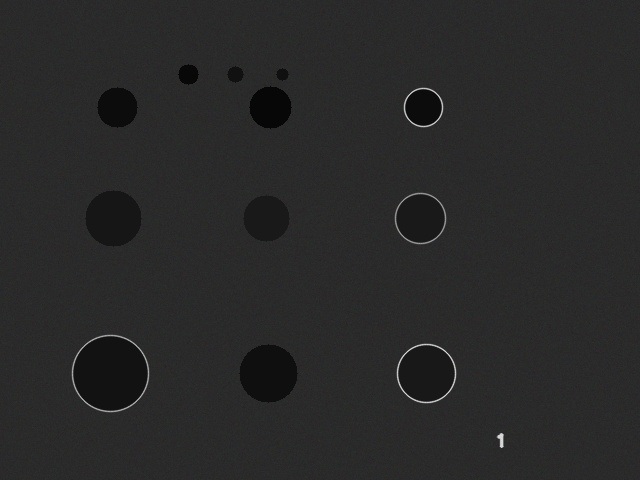hole: (72, 335, 148, 411), (239, 344, 297, 402), (397, 344, 455, 402), (85, 190, 141, 246), (395, 193, 445, 243), (243, 195, 289, 241), (249, 86, 291, 128), (97, 87, 137, 127), (404, 88, 442, 126), (178, 64, 198, 84), (227, 66, 243, 82), (276, 68, 288, 80)
